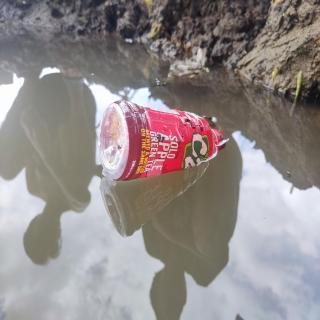bottle: (96, 95, 230, 183)
